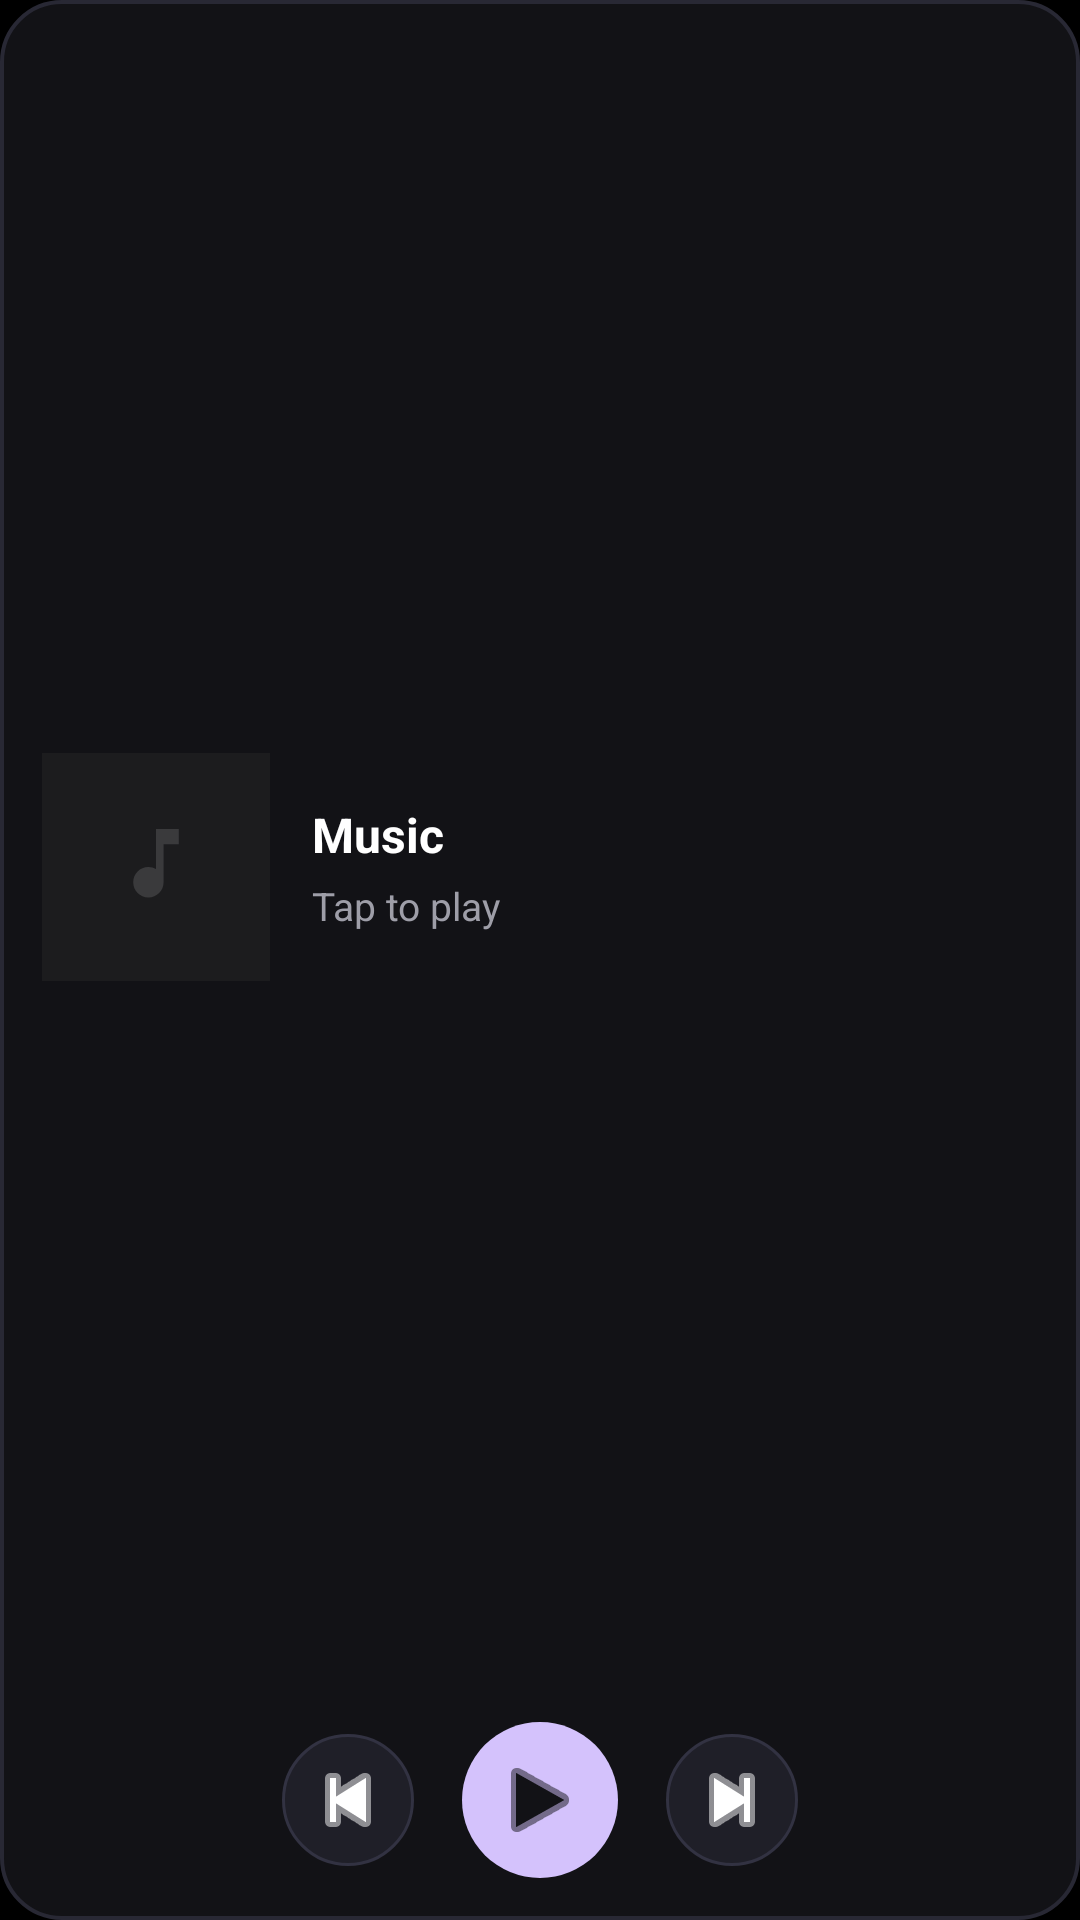

Icon bounding boxes for this 1080*1920 phone screenshot, format (x1, y1, x2, y2):
Next: (666, 1734, 798, 1866)
Play or Pause: (462, 1722, 618, 1878)
Previous: (282, 1734, 414, 1866)
